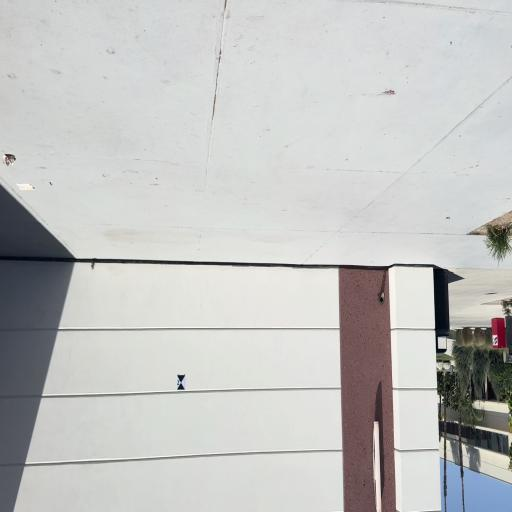target7: (177, 374, 186, 390)
